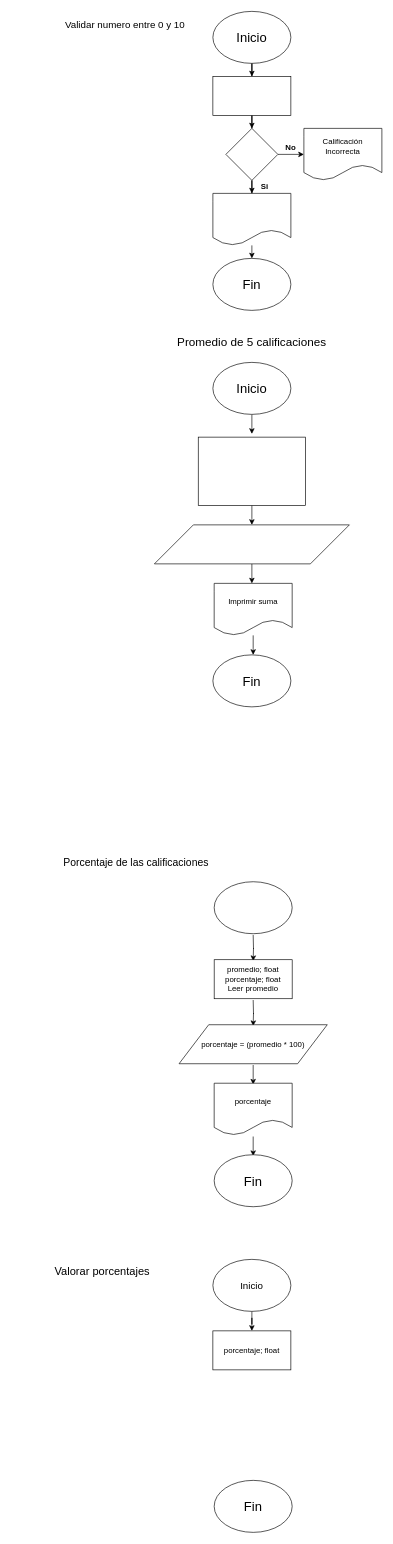
Some shapes in this 393 by 1544 pixel diagram are drawn without their labels. The shapes that lost their labels are listed below. From the top down, each one's centre as x and y in pixels, then its label:
[251,95]: a; ENTERO Leer a
[251,154]: a≥0 a≤10
[251,219]: Calificación correcta
[252,470]: a, b, c, d, e; REAL sum (a+b+c+d+e)
[251,544]: promedio = (a+b+c+d+e)/5
[253,907]: Inicio Porcentajes
